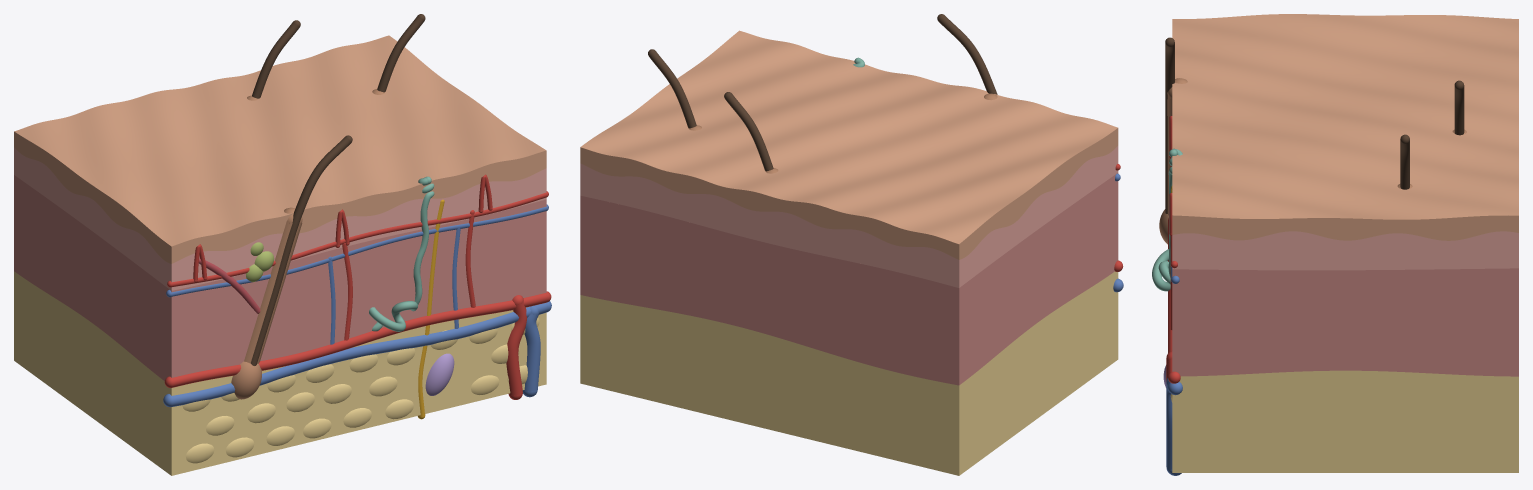
The model's file is skin.glb.
The picture shows the model from 3 angles, left to right: view 1: azimuth 30°, elevation 25°; view 2: azimuth 150°, elevation 25°; view 3: azimuth 270°, elevation 25°; orthographic projection. The views are drawn at different scales.
Visible parts, largest first — view 1: epidermis, reticular-dermis, hypodermis, papillary-dermis, arteries, veins, hair-shaft, hair-follicle, sweat-gland, nerve, lamellar-corpuscle, sebaceous-gland; view 2: epidermis, reticular-dermis, hypodermis, papillary-dermis, hair-shaft; view 3: epidermis, reticular-dermis, hypodermis, papillary-dermis, hair-shaft, arteries, sweat-gland, veins, hair-follicle.
Boxes of the visible parts, <box> form: epidermis: <box>14,35,546,263</box>; reticular-dermis: <box>14,175,546,380</box>; hypodermis: <box>14,271,546,475</box>; papillary-dermis: <box>14,147,546,290</box>; arteries: <box>164,174,551,399</box>; veins: <box>163,204,551,407</box>; hair-shaft: <box>250,14,425,365</box>; hair-follicle: <box>231,89,384,399</box>; sweat-gland: <box>369,176,434,331</box>; nerve: <box>417,199,444,419</box>; lamellar-corpuscle: <box>425,353,454,395</box>; sebaceous-gland: <box>246,242,274,282</box>; epidermis: <box>580,30,1118,259</box>; reticular-dermis: <box>580,173,1118,385</box>; hypodermis: <box>580,271,1118,475</box>; papillary-dermis: <box>580,146,1118,287</box>; hair-shaft: <box>648,14,997,171</box>; epidermis: <box>1172,14,1518,240</box>; reticular-dermis: <box>1172,268,1518,376</box>; hypodermis: <box>1170,370,1518,472</box>; papillary-dermis: <box>1172,231,1518,270</box>; hair-shaft: <box>1165,37,1464,213</box>; arteries: <box>1166,116,1180,383</box>; sweat-gland: <box>1152,148,1182,291</box>; veins: <box>1166,266,1182,475</box>; hair-follicle: <box>1159,78,1466,244</box>.
Size of the model in its own units: 4.54 by 3.45 by 3.39.
